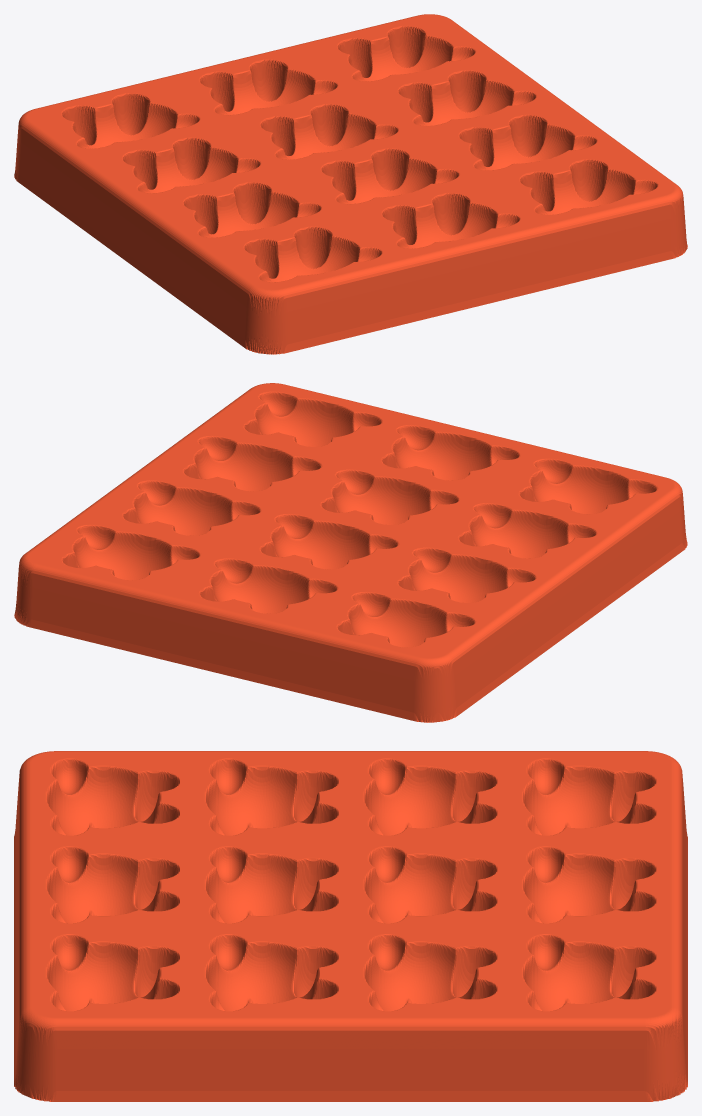
File: mold.glb
3 views of the same model, one above another, from view 1: azimuth 30°, elevation 25°; view 2: azimuth 150°, elevation 25°; view 3: azimuth 270°, elevation 25° (orthographic). The views are drawn at different scales.
Visible parts, largest first — view 1: geometry_0; view 2: geometry_0; view 3: geometry_0.
Part boxes in pixels (x1,y1,x2,y2): geometry_0: (14,14,687,354); geometry_0: (14,383,687,722); geometry_0: (14,751,687,1101).
Size of the model in its own units: 0.141 by 0.0181 by 0.1434.
